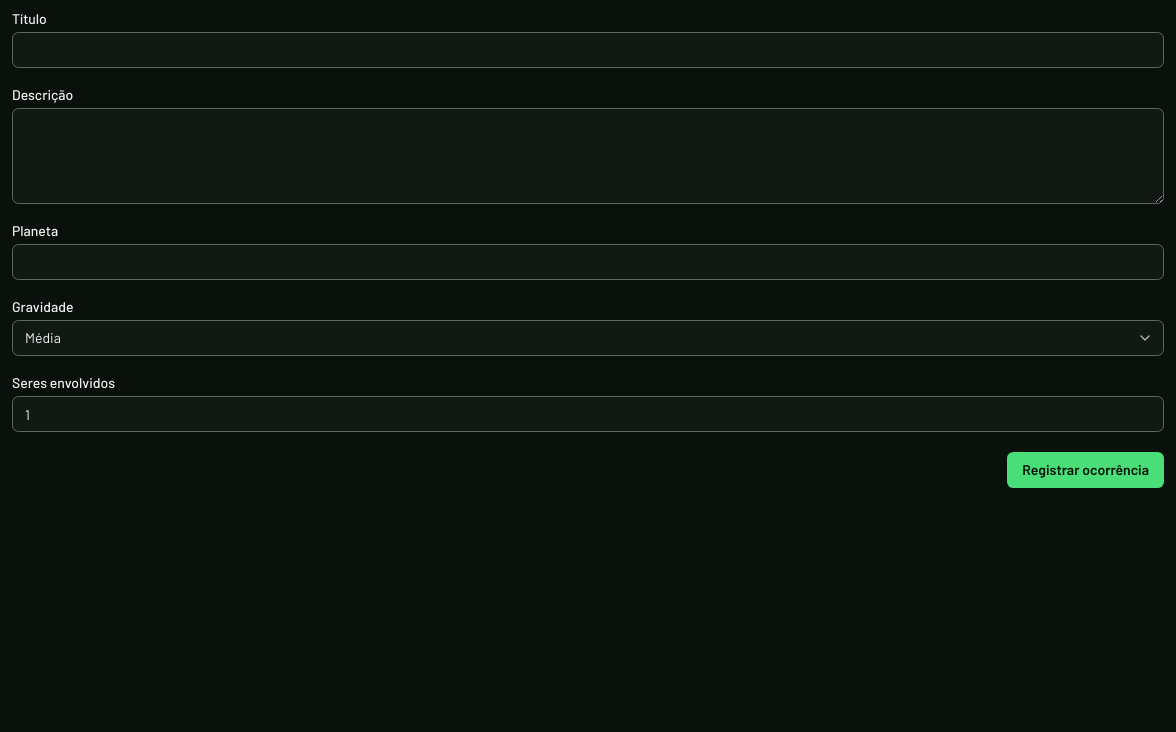
Test case: Lanterna não vê o campo setor e envia o setor da sessão
The width and height of the screenshot is (1176, 732).
Type "Invasão em Oa" into the field labelled "Título" at (588,50), box top-left (12, 32), bottom-right (1164, 68)
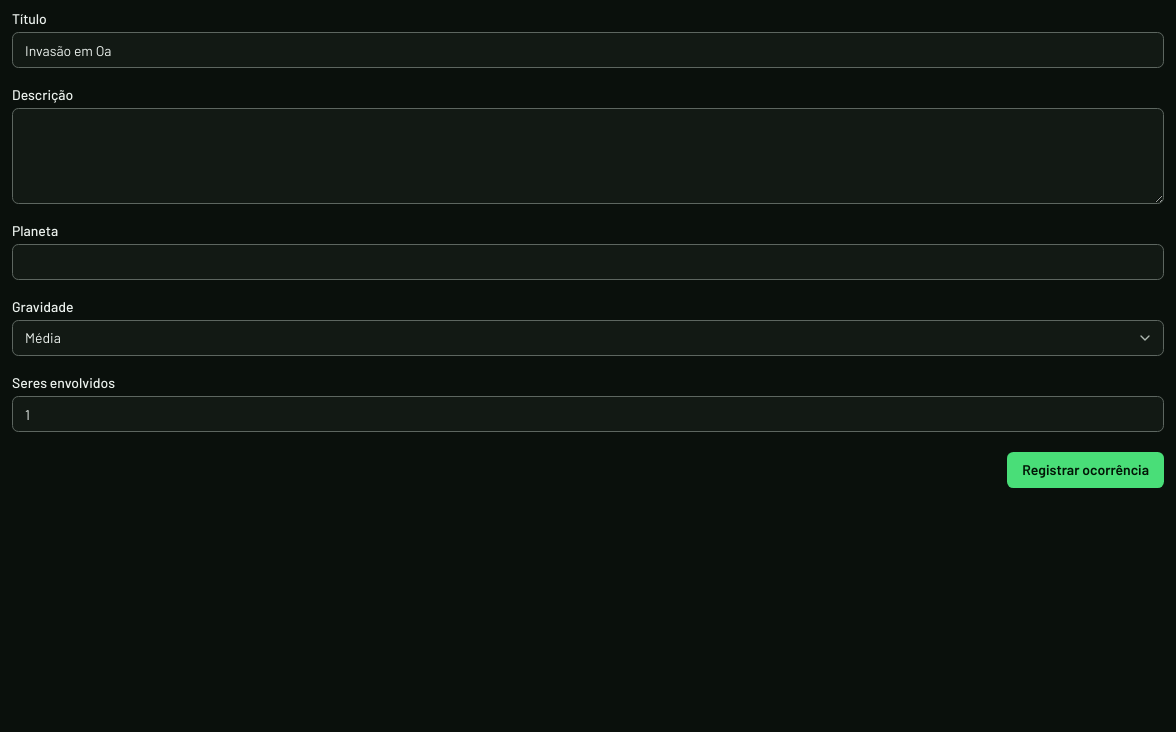
Type "Muitos invasores na Bateria Central." into the text box labelled "Descrição" at (588,156), box top-left (12, 108), bottom-right (1164, 204)
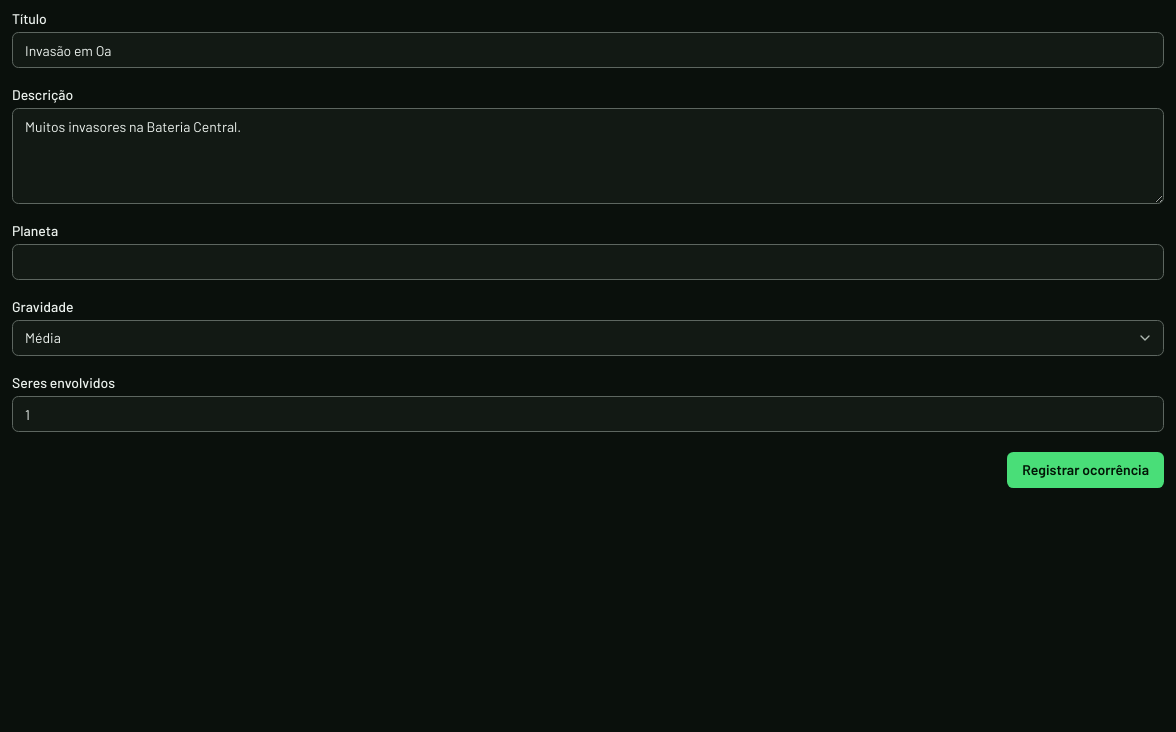
Type "Oa" into the field labelled "Planeta" at (588,262), box top-left (12, 244), bottom-right (1164, 280)
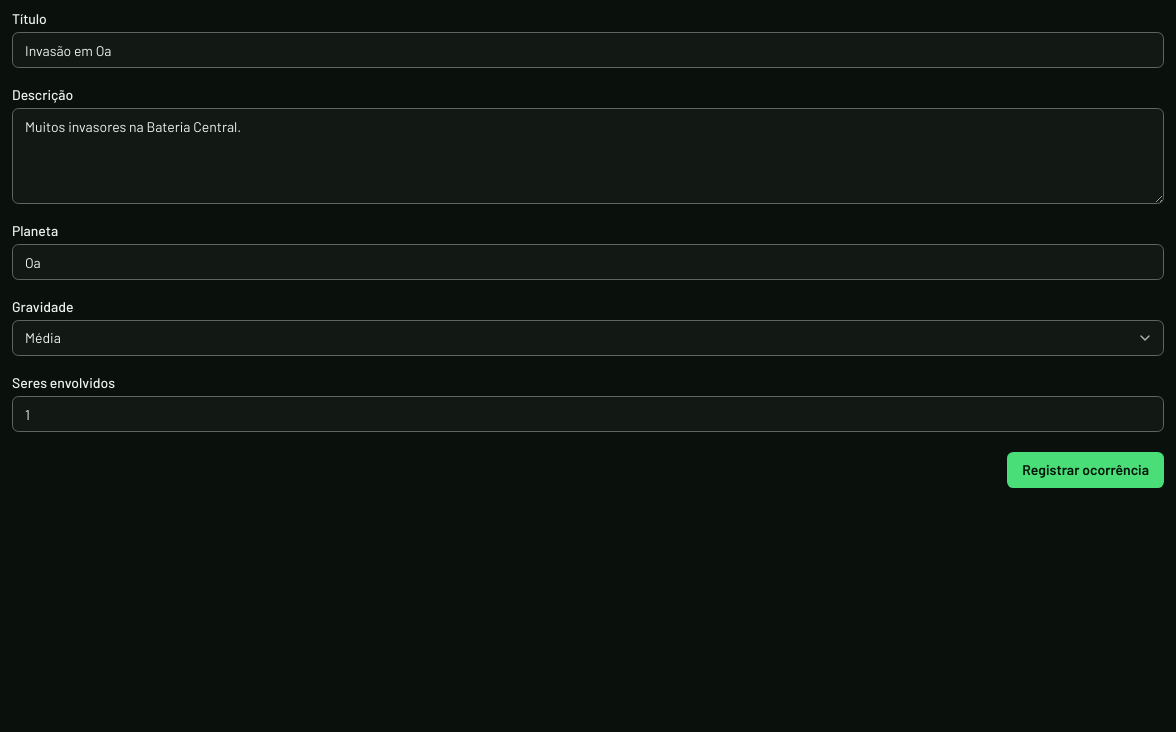
Replace the text in the number field labelled "Seres envolvidos" with "3" at (588,414), box top-left (12, 396), bottom-right (1164, 432)
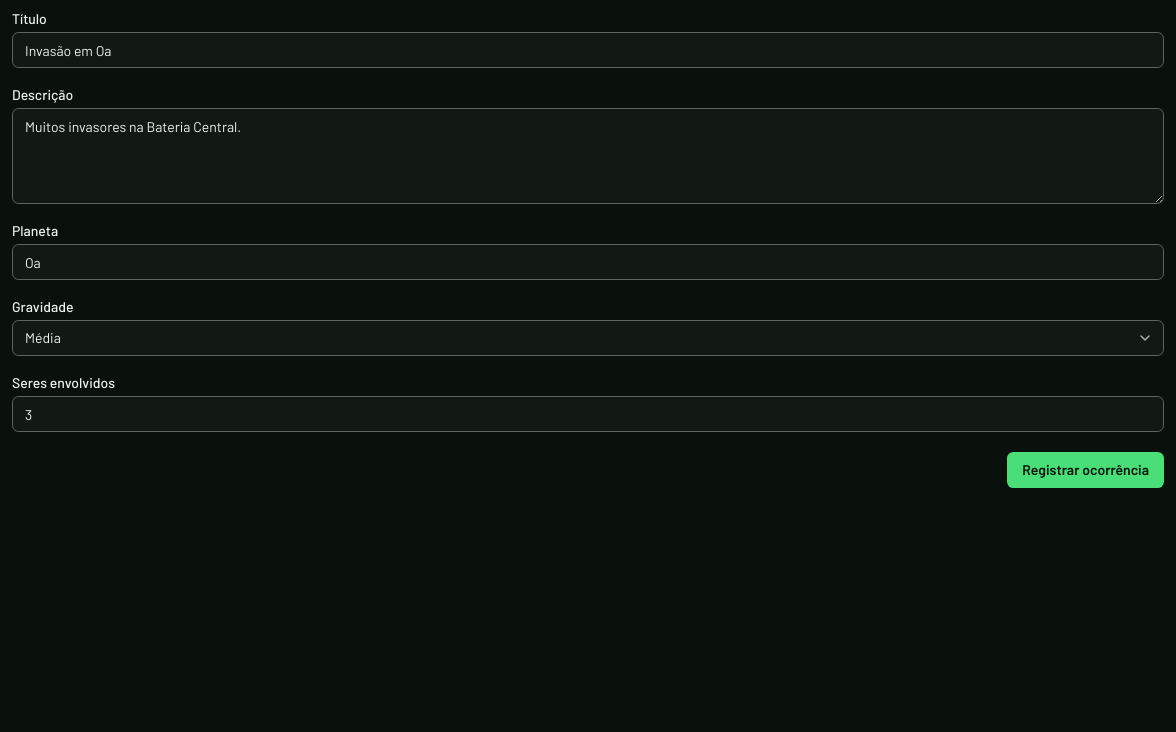
Click the button "Registrar ocorrência" at (1086,470), box top-left (1007, 452), bottom-right (1164, 488)
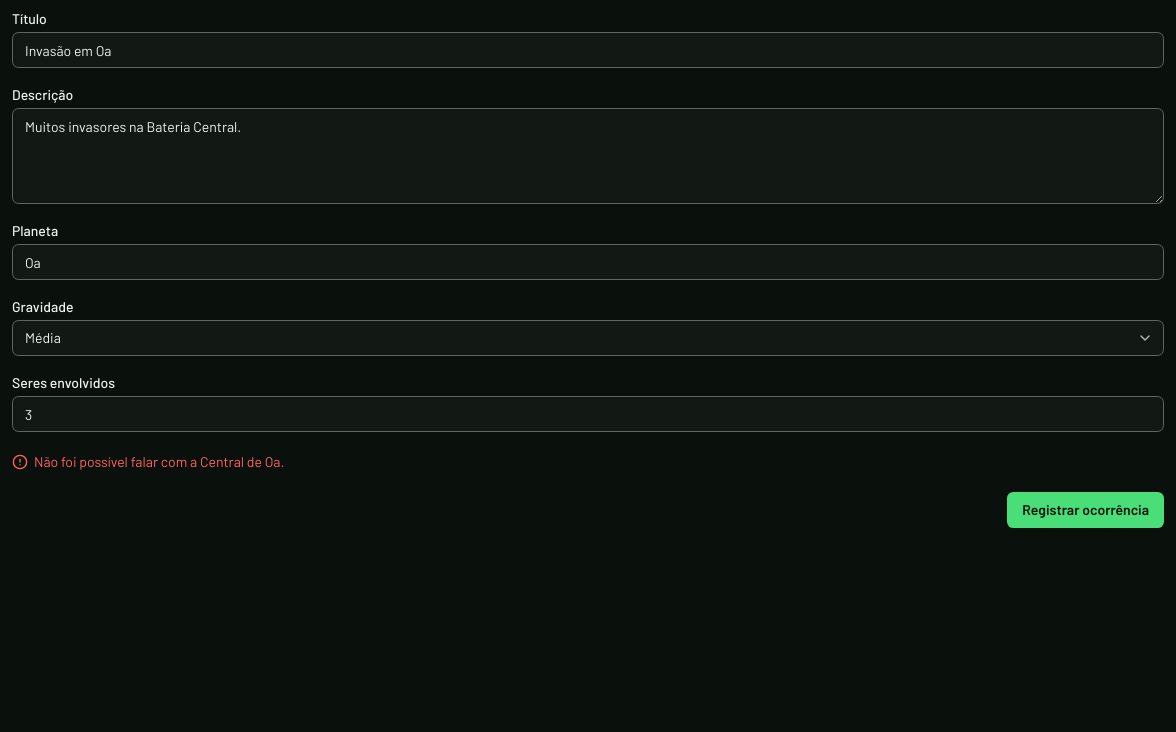
Expected: the button "Registrar ocorrência" is enabled, top-left (1007, 492), bottom-right (1164, 528)
Expected: the text "Não foi possível falar com a Central de Oa." is shown, top-left (12, 453), bottom-right (284, 470)
